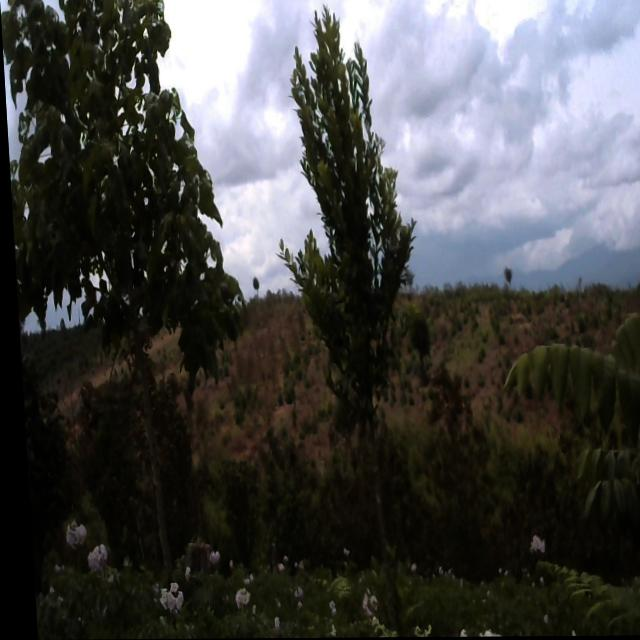Vitex keniensis: (0, 0, 248, 543)
